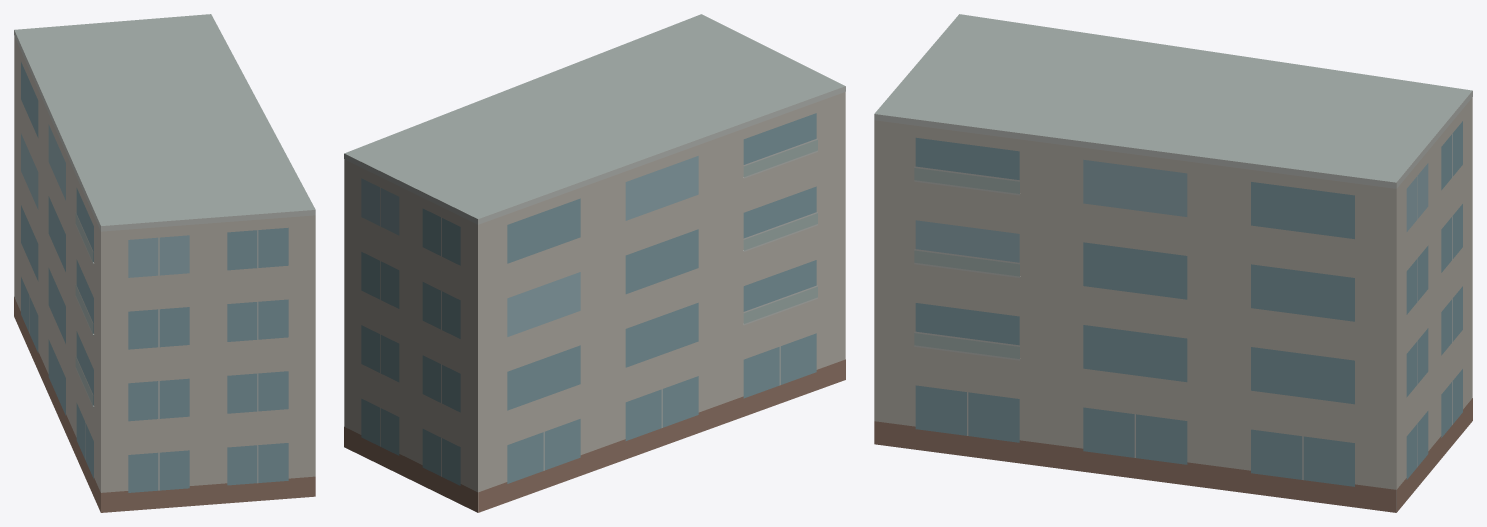
Rendered from survey-upis-33021034.glb.
3 renders of one model, left to right at view 1: azimuth 30°, elevation 25°; view 2: azimuth 150°, elevation 25°; view 3: azimuth 270°, elevation 25°, orthographic. The views are drawn at different scales.
Visible parts, largest first — view 1: survey-upis-33021034.tmp; view 2: survey-upis-33021034.tmp; view 3: survey-upis-33021034.tmp.
Boxes of the visible parts, box(x1,y1,x2,y2) form: survey-upis-33021034.tmp: box(14, 14, 315, 512); survey-upis-33021034.tmp: box(344, 14, 845, 512); survey-upis-33021034.tmp: box(874, 14, 1472, 512).
Bounding box in the file's own units: 14.03 × 12.8 × 21.04.
